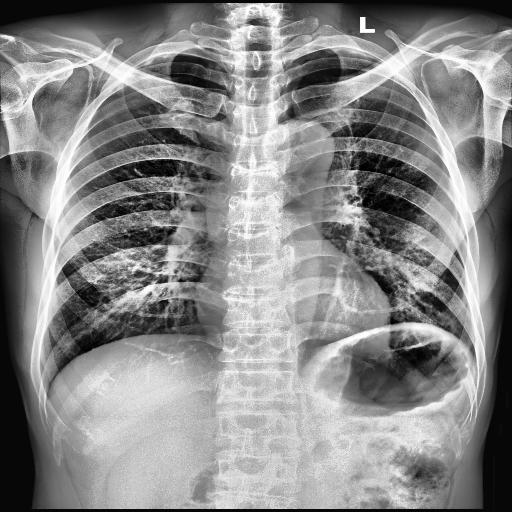0- Aortic enlargement: (253, 120, 334, 179), (272, 120, 336, 184)
11- Pleural thickening: (338, 44, 379, 59), (134, 55, 180, 66)
5- ILD: (82, 244, 178, 327)
